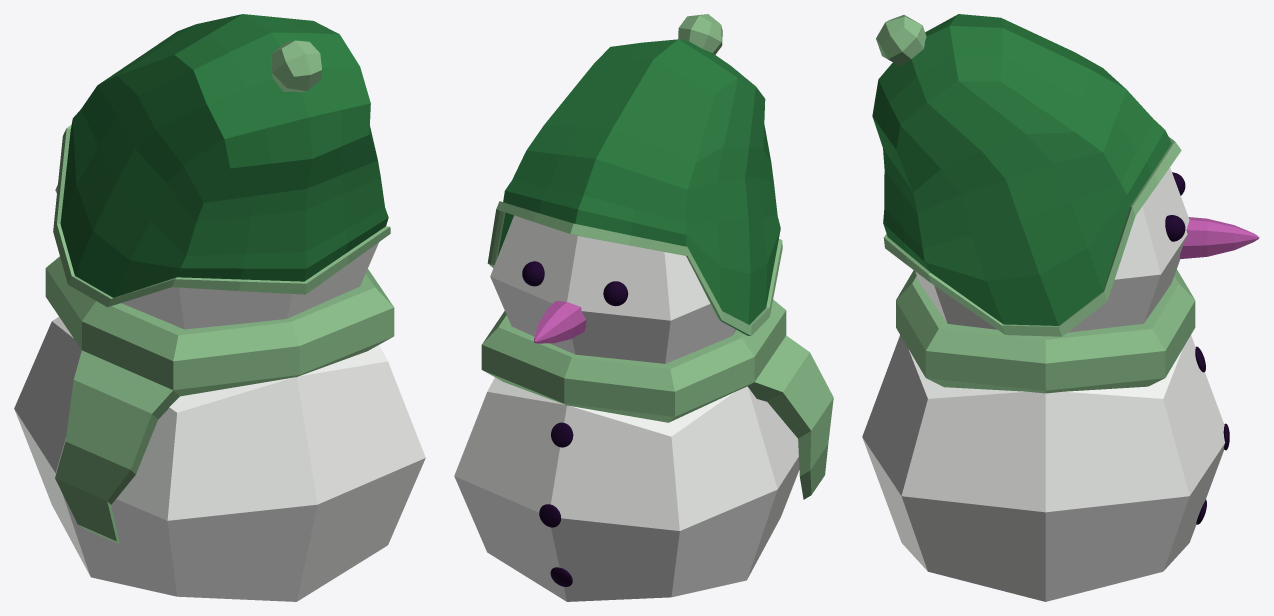
File: Snowman.glb
3 views of the same model, side by side, from view 1: azimuth 30°, elevation 25°; view 2: azimuth 150°, elevation 25°; view 3: azimuth 270°, elevation 25° (orthographic). The views are drawn at different scales.
Visible parts, largest first — view 1: SMChillHat, ChillBody, Scarf; view 2: ChillBody, SMChillHat, Scarf, Carrot, Buttons, Eyes; view 3: ChillBody, SMChillHat, Scarf, Carrot, Eyes.
Part boxes in pixels (x1,y1,x2,y2): SMChillHat: [53, 14, 390, 307]; ChillBody: [14, 184, 425, 601]; Scarf: [45, 256, 394, 543]; ChillBody: [454, 215, 799, 601]; SMChillHat: [487, 14, 782, 335]; Scarf: [481, 299, 833, 499]; Carrot: [534, 301, 586, 343]; Buttons: [539, 422, 573, 586]; Eyes: [522, 261, 628, 306]; ChillBody: [862, 168, 1225, 601]; SMChillHat: [872, 14, 1181, 336]; Scarf: [896, 269, 1195, 393]; Carrot: [1180, 217, 1259, 258]; Eyes: [1165, 172, 1185, 241].
Size of the model in its own units: 2.24 by 3.74 by 2.37.
